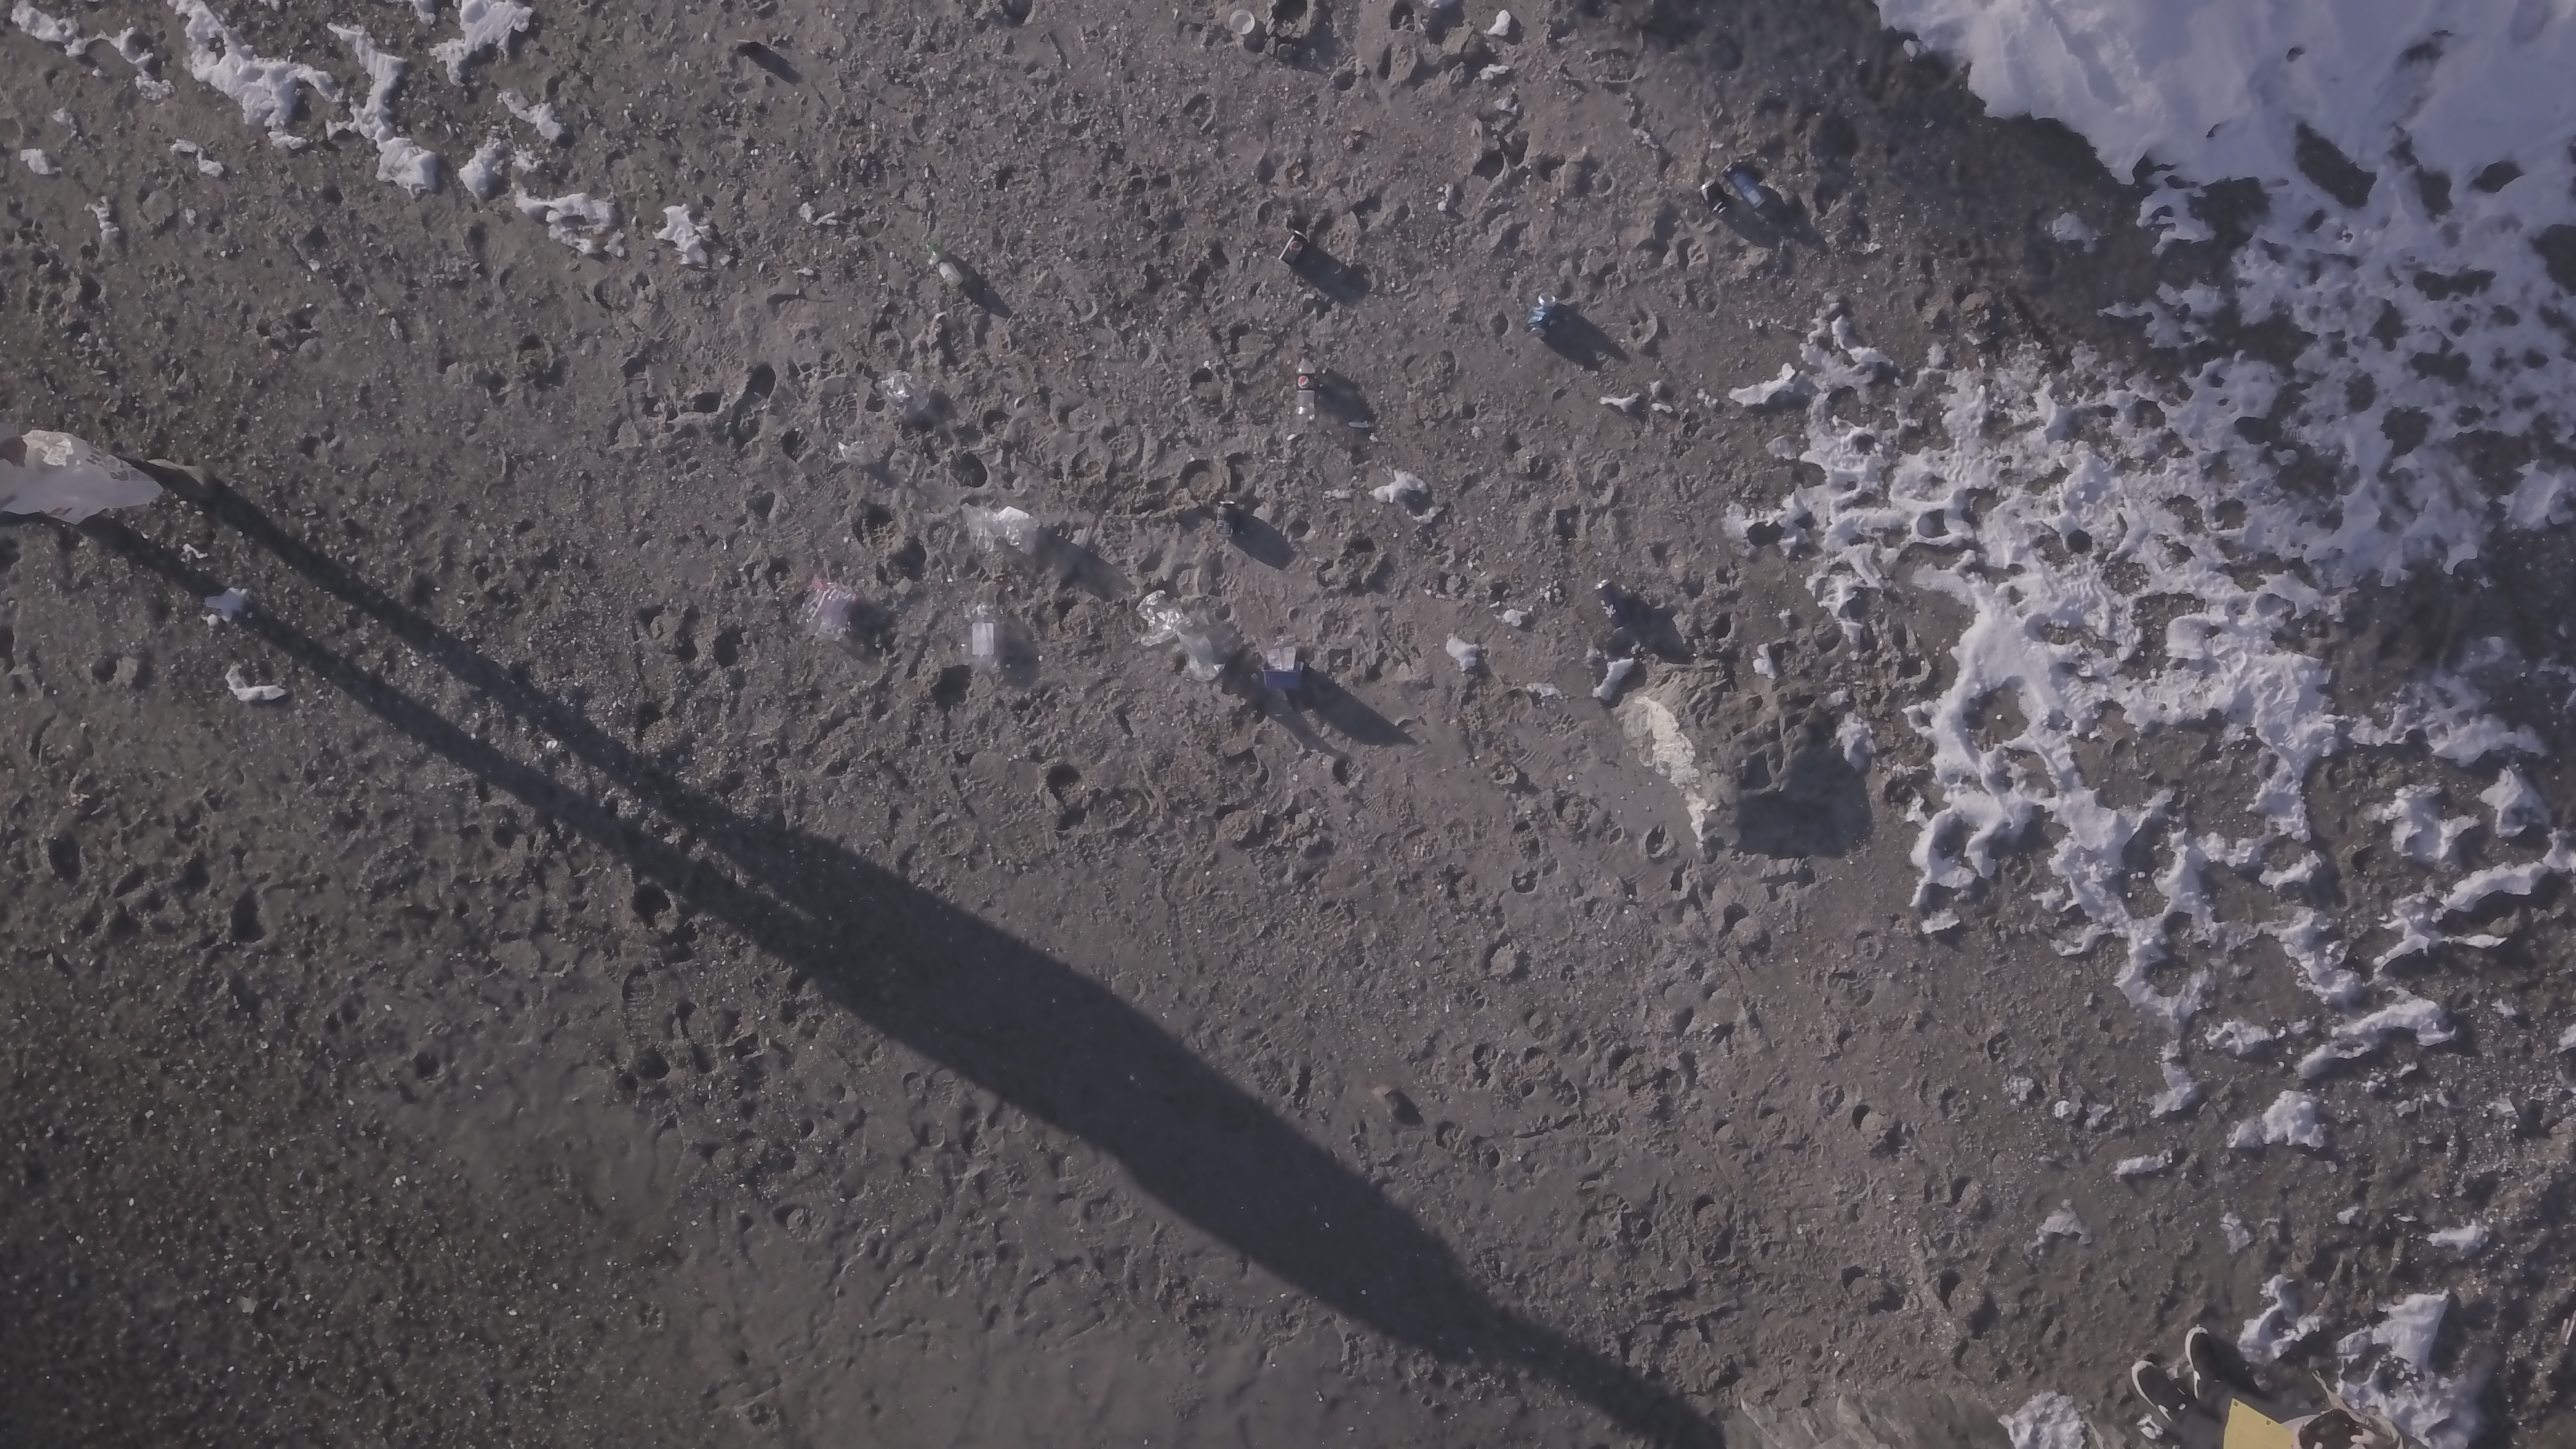Can: (1725, 159, 1767, 211), (1594, 579, 1635, 632), (1525, 290, 1562, 341), (1277, 226, 1309, 271), (1698, 175, 1729, 218), (1217, 497, 1238, 540)
Plastic: (5, 432, 163, 531), (957, 502, 1042, 556), (959, 600, 1012, 672), (801, 579, 860, 642), (1136, 589, 1194, 646), (1173, 628, 1230, 685), (883, 372, 932, 425), (1261, 663, 1315, 695), (833, 439, 881, 471), (1267, 630, 1300, 672), (1230, 9, 1256, 35)
PlasticBottle: (1295, 352, 1320, 425), (929, 241, 964, 288)
